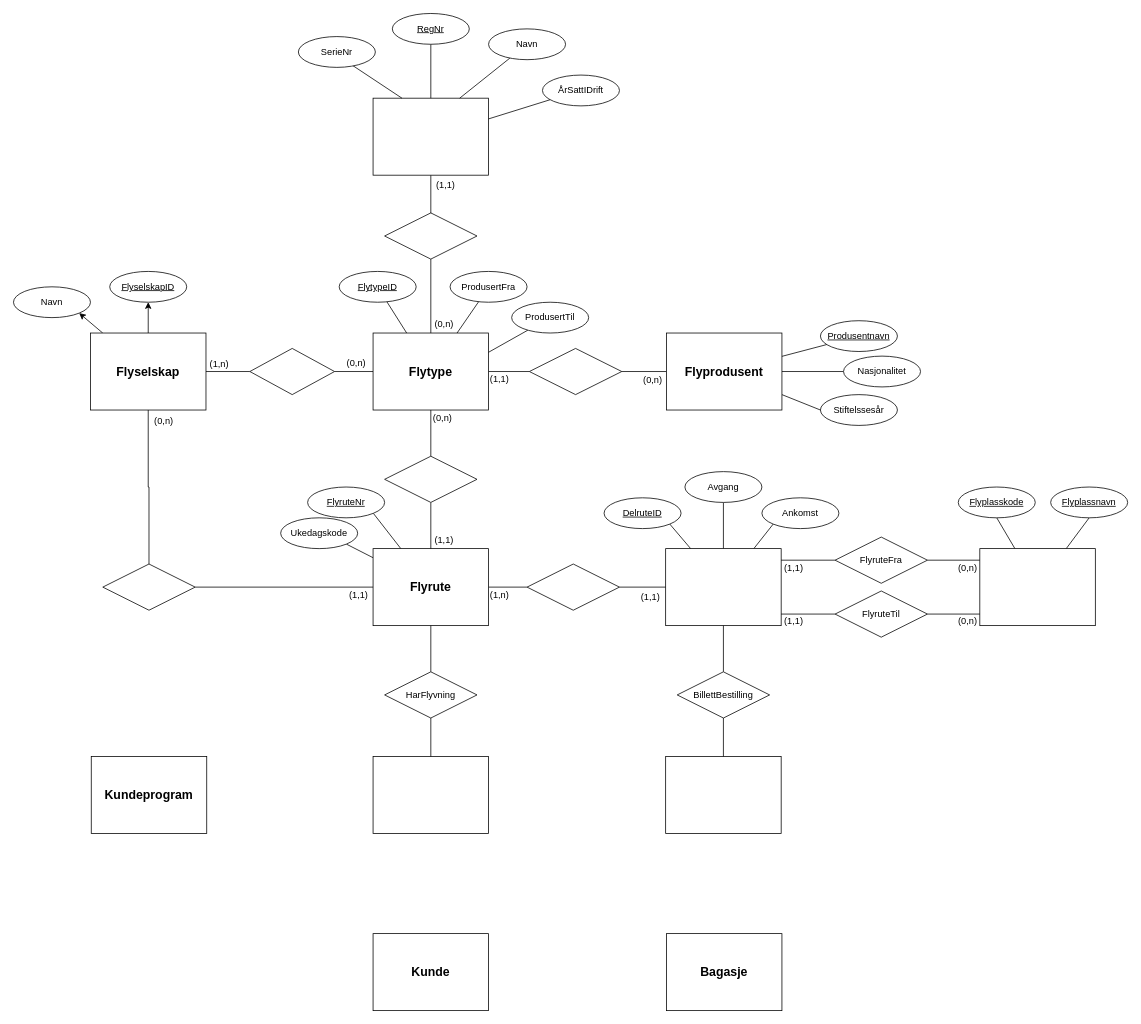
The diagram is 1141 pixels wide and 1024 high, and some of its shapes have lost their labels. Each missing label, with the centre of its shape:
BenytterFlytype: the point at 292,371
Billett: the point at 723,795
BrukesTilRute: the point at 430,478
Delrute: the point at 723,587
ErType: the point at 430,235
Fly: the point at 430,136
Flyplass: the point at 1037,587
Flyvning: the point at 430,795
HarDelrute: the point at 572,586
OpereresAv: the point at 148,586
ProduseresAv: the point at 575,371
